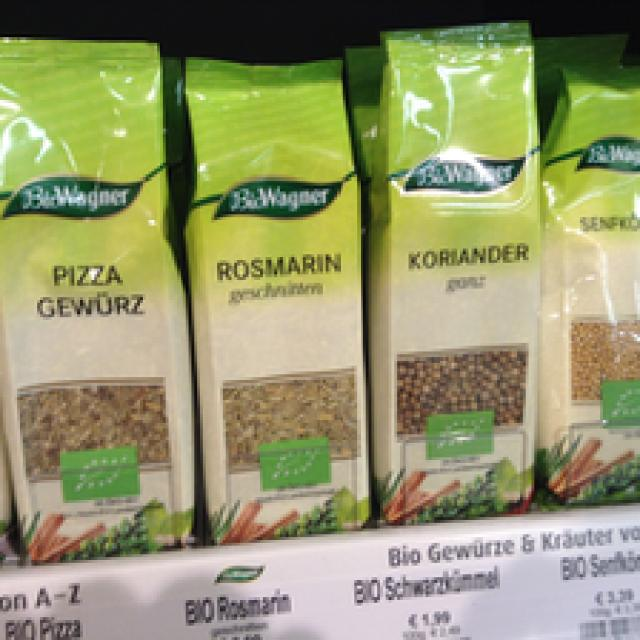groceries: (0, 31, 194, 554), (180, 48, 380, 543), (369, 14, 537, 514), (537, 63, 637, 503)
